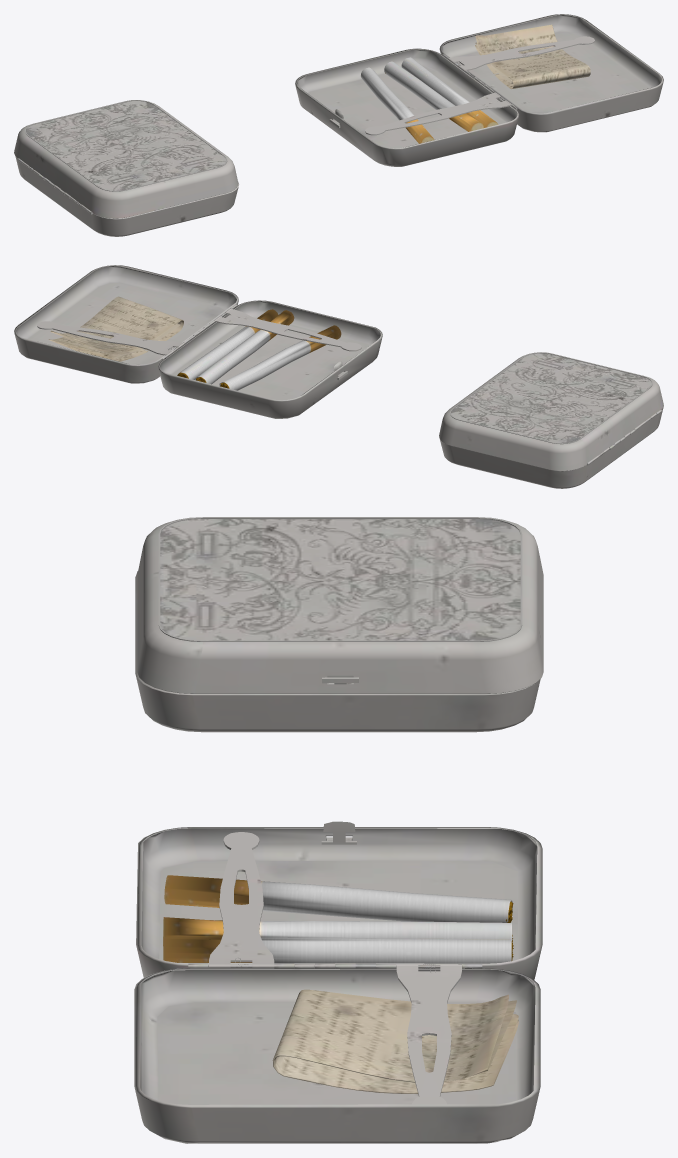
The model's file is cigarette_case.b4d50ee3.glb.
3 views of the same model, one above another, from view 1: azimuth 30°, elevation 25°; view 2: azimuth 150°, elevation 25°; view 3: azimuth 270°, elevation 25° (orthographic). The views are drawn at different scales.
Visible parts, largest first — view 1: cigarette_case, cigarette_case_cover_a, cigarette_case_cover_b, cigarette_case_note, cigarette_case_clip_a, cigarette_case_cigarette_b, cigarette_case_clip_b, cigarette_case_cigarette_a, cigarette_case_cigarette_c; view 2: cigarette_case, cigarette_case_cover_a, cigarette_case_cover_b, cigarette_case_note, cigarette_case_cigarette_a, cigarette_case_clip_a, cigarette_case_cigarette_b, cigarette_case_clip_b, cigarette_case_cigarette_c; view 3: cigarette_case, cigarette_case_cover_b, cigarette_case_cover_a, cigarette_case_note, cigarette_case_cigarette_a, cigarette_case_cigarette_c, cigarette_case_cigarette_b, cigarette_case_clip_b, cigarette_case_clip_a.
Boxes of the visible parts, <box> form: cigarette_case: <box>14,100,238,236</box>; cigarette_case_cover_a: <box>295,48,519,166</box>; cigarette_case_cover_b: <box>439,14,663,132</box>; cigarette_case_note: <box>475,24,590,89</box>; cigarette_case_clip_a: <box>365,92,511,135</box>; cigarette_case_cigarette_b: <box>384,61,483,131</box>; cigarette_case_clip_b: <box>448,36,594,70</box>; cigarette_case_cigarette_a: <box>361,67,434,143</box>; cigarette_case_cigarette_c: <box>401,57,498,127</box>; cigarette_case: <box>439,352,663,488</box>; cigarette_case_cover_a: <box>158,300,382,418</box>; cigarette_case_cover_b: <box>14,265,238,383</box>; cigarette_case_note: <box>48,296,183,361</box>; cigarette_case_cigarette_a: <box>219,325,341,390</box>; cigarette_case_clip_a: <box>214,308,361,351</box>; cigarette_case_cigarette_b: <box>195,310,294,384</box>; cigarette_case_clip_b: <box>37,321,184,355</box>; cigarette_case_cigarette_c: <box>177,309,278,379</box>; cigarette_case: <box>135,517,543,732</box>; cigarette_case_cover_b: <box>134,963,540,1143</box>; cigarette_case_cover_a: <box>136,821,542,979</box>; cigarette_case_note: <box>272,989,518,1093</box>; cigarette_case_cigarette_a: <box>164,875,513,922</box>; cigarette_case_cigarette_c: <box>163,937,513,963</box>; cigarette_case_cigarette_b: <box>163,917,513,946</box>; cigarette_case_clip_b: <box>396,964,461,1104</box>; cigarette_case_clip_a: <box>209,832,274,967</box>.
Bounding box in the file's own units: 0.95 × 0.0719 × 0.2958.
1 material, 1 textured.
